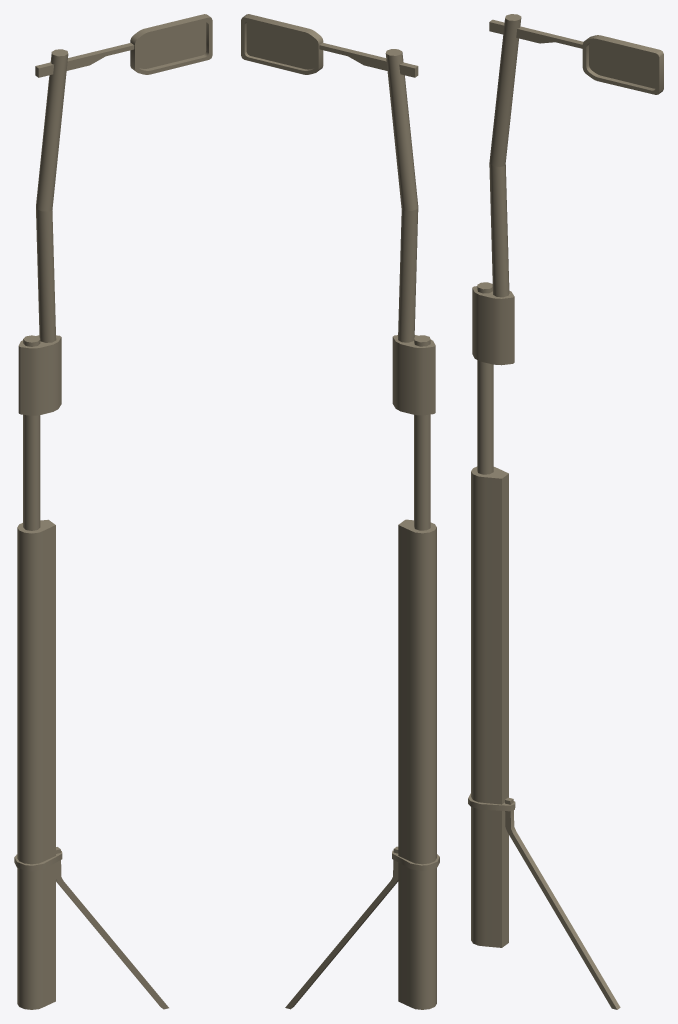
The model's file is savHubPost.fbx.
3 renders of one model, left to right at view 1: azimuth 30°, elevation 25°; view 2: azimuth 150°, elevation 25°; view 3: azimuth 330°, elevation 25°, orthographic.
Visible parts, largest first — view 1: savHubPost_LOD0; view 2: savHubPost_LOD0; view 3: savHubPost_LOD0.
Boxes of the visible parts, <box> form: savHubPost_LOD0: <box>14,14,212,1009</box>; savHubPost_LOD0: <box>241,14,439,1009</box>; savHubPost_LOD0: <box>468,14,663,1009</box>.
Size of what is drawn, in the model's own units: 299 by 1449 by 45.78.
